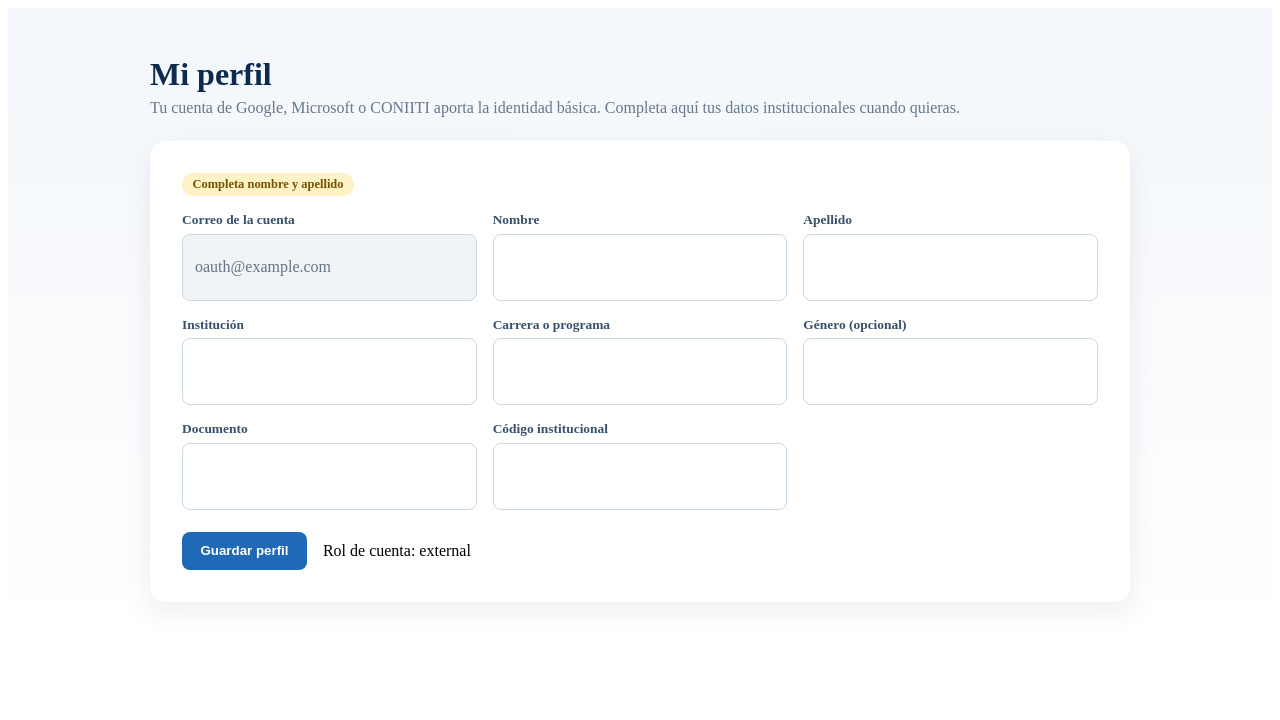
Test case: Perfil de usuario › permite completar datos opcionales después de OAuth
Check: the field showing "oauth@example.com" is shown, box [182,234,477,301]
In the field labelled "Nombre": (640, 267) [493,234,787,301], type "Ana"
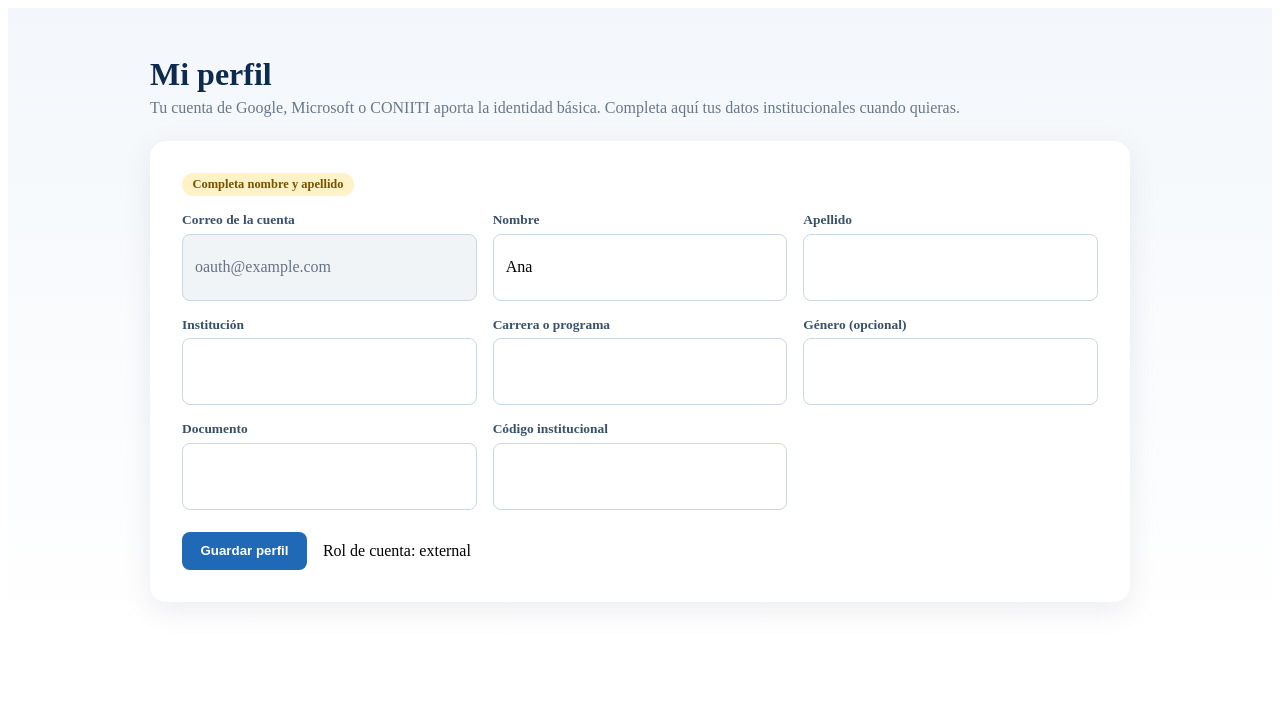
In the field labelled "Apellido": (951, 267) [803,234,1098,301], type "Ríos"
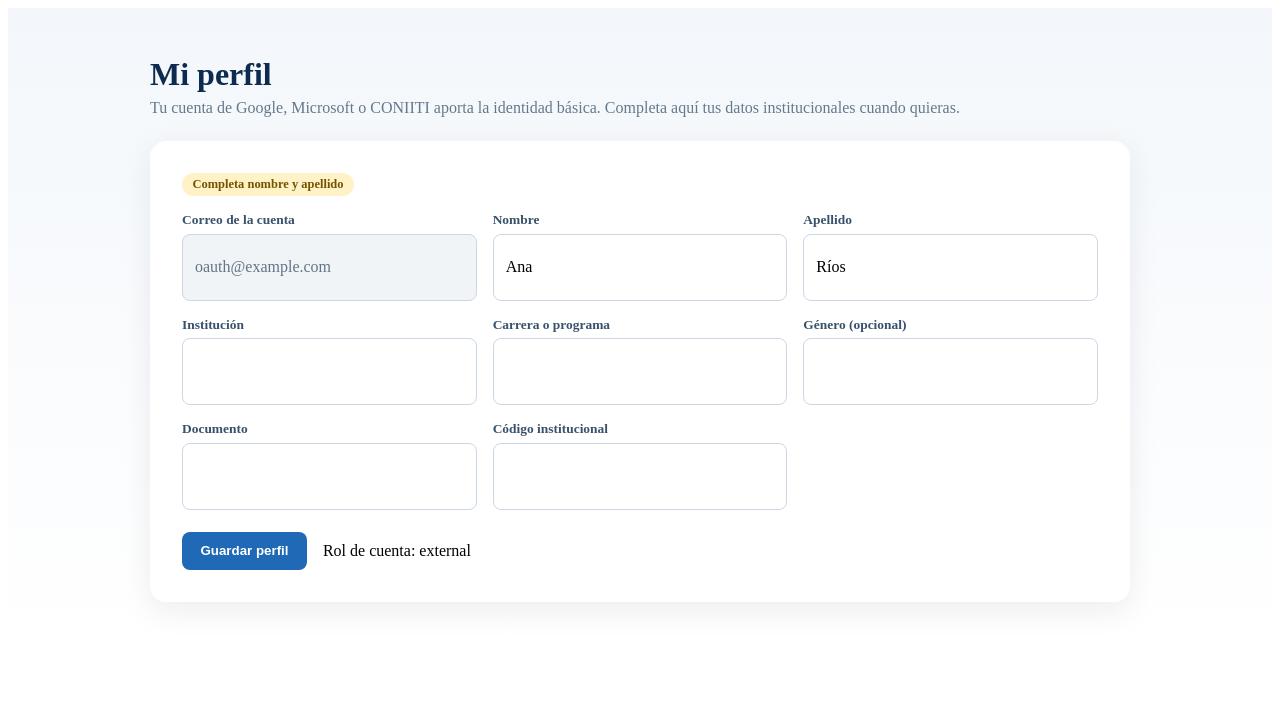
In the field labelled "Carrera o programa": (640, 372) [493,338,787,405], type "Sistemas"
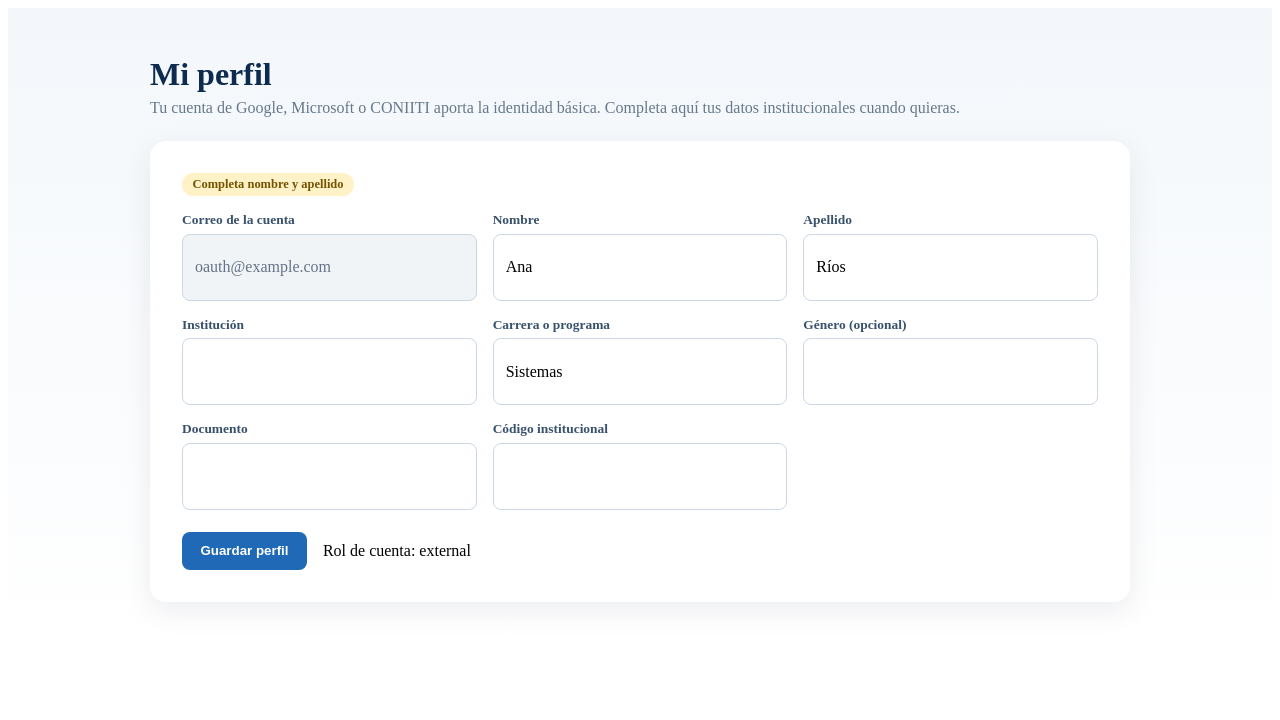
Click the button "Guardar perfil": (244, 551) [182,532,307,570]
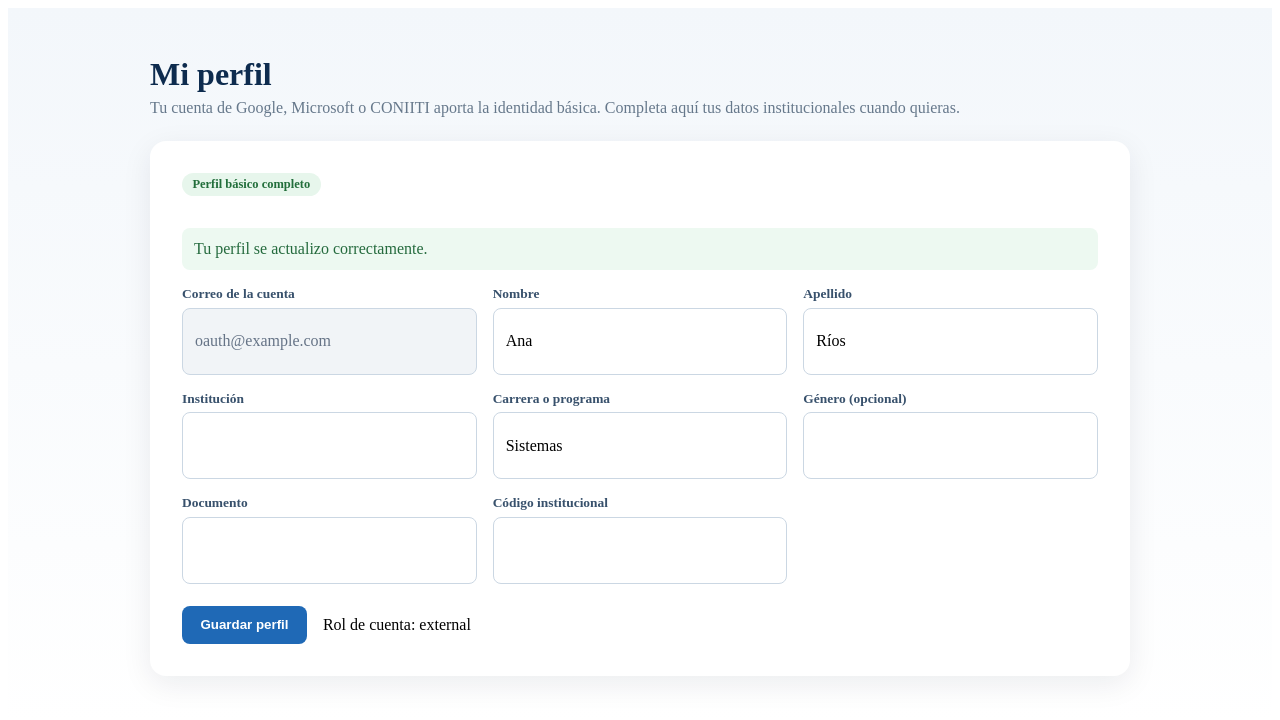
Check: the text "Tu perfil se actualizo correctamente." is shown, box [182,228,1098,270]
